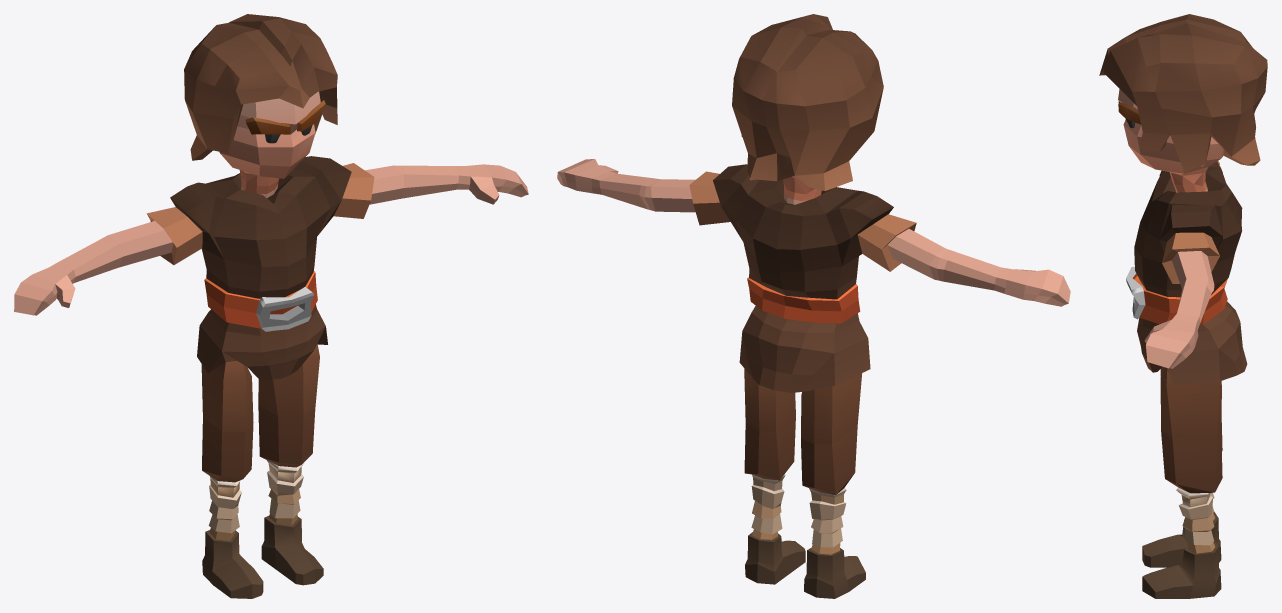
File: Gamejam-MainCharacter.fbx
3 renders of one model, left to right at view 1: azimuth 30°, elevation 25°; view 2: azimuth 150°, elevation 25°; view 3: azimuth 270°, elevation 25°, orthographic.
Parts seen in each view (by area): view 1: Cube; view 2: Cube; view 3: Cube.
Boxes of the visible parts, <box> form: Cube: <box>14,14,528,598</box>; Cube: <box>557,14,1070,598</box>; Cube: <box>1099,14,1267,598</box>.
Size of the model in its own units: 178 by 184 by 50.64.
Materials: 1 (1 with a texture image).
